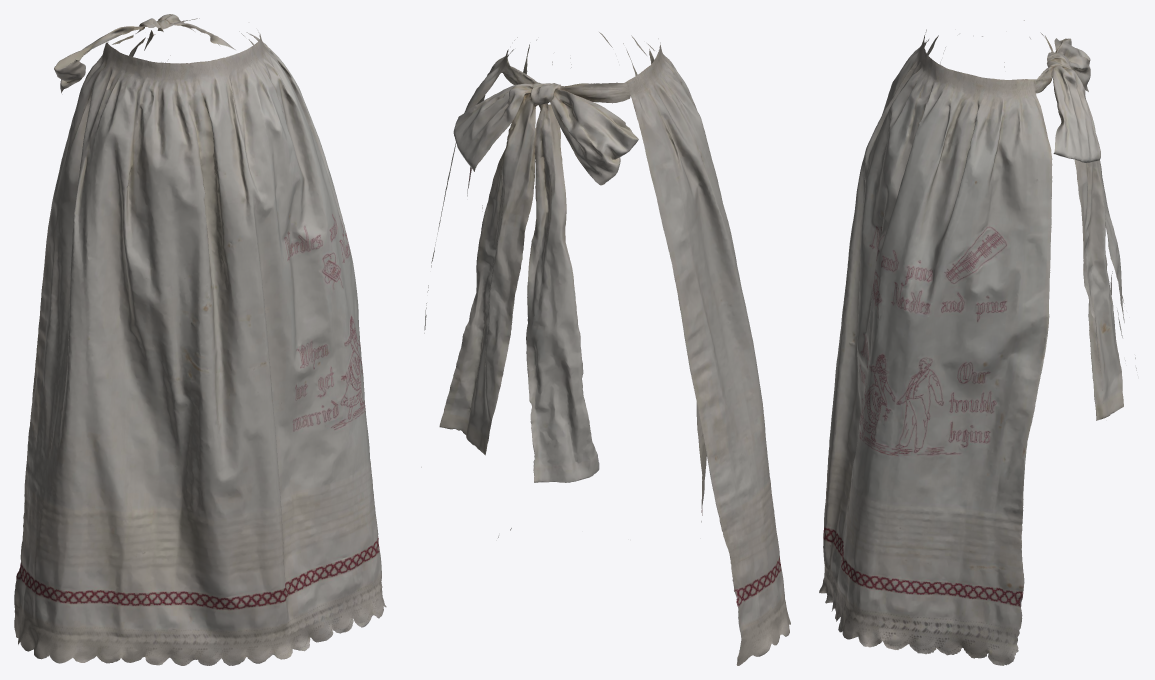
File: apron.glb
3 renders of one model, left to right at view 1: azimuth 30°, elevation 25°; view 2: azimuth 150°, elevation 25°; view 3: azimuth 270°, elevation 25°, orthographic. The views are drawn at different scales.
Size of the model in its own units: 0.5497 by 0.9162 by 0.4821.
1 material, 1 textured.
